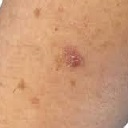Actinic: (55, 46, 87, 69)
